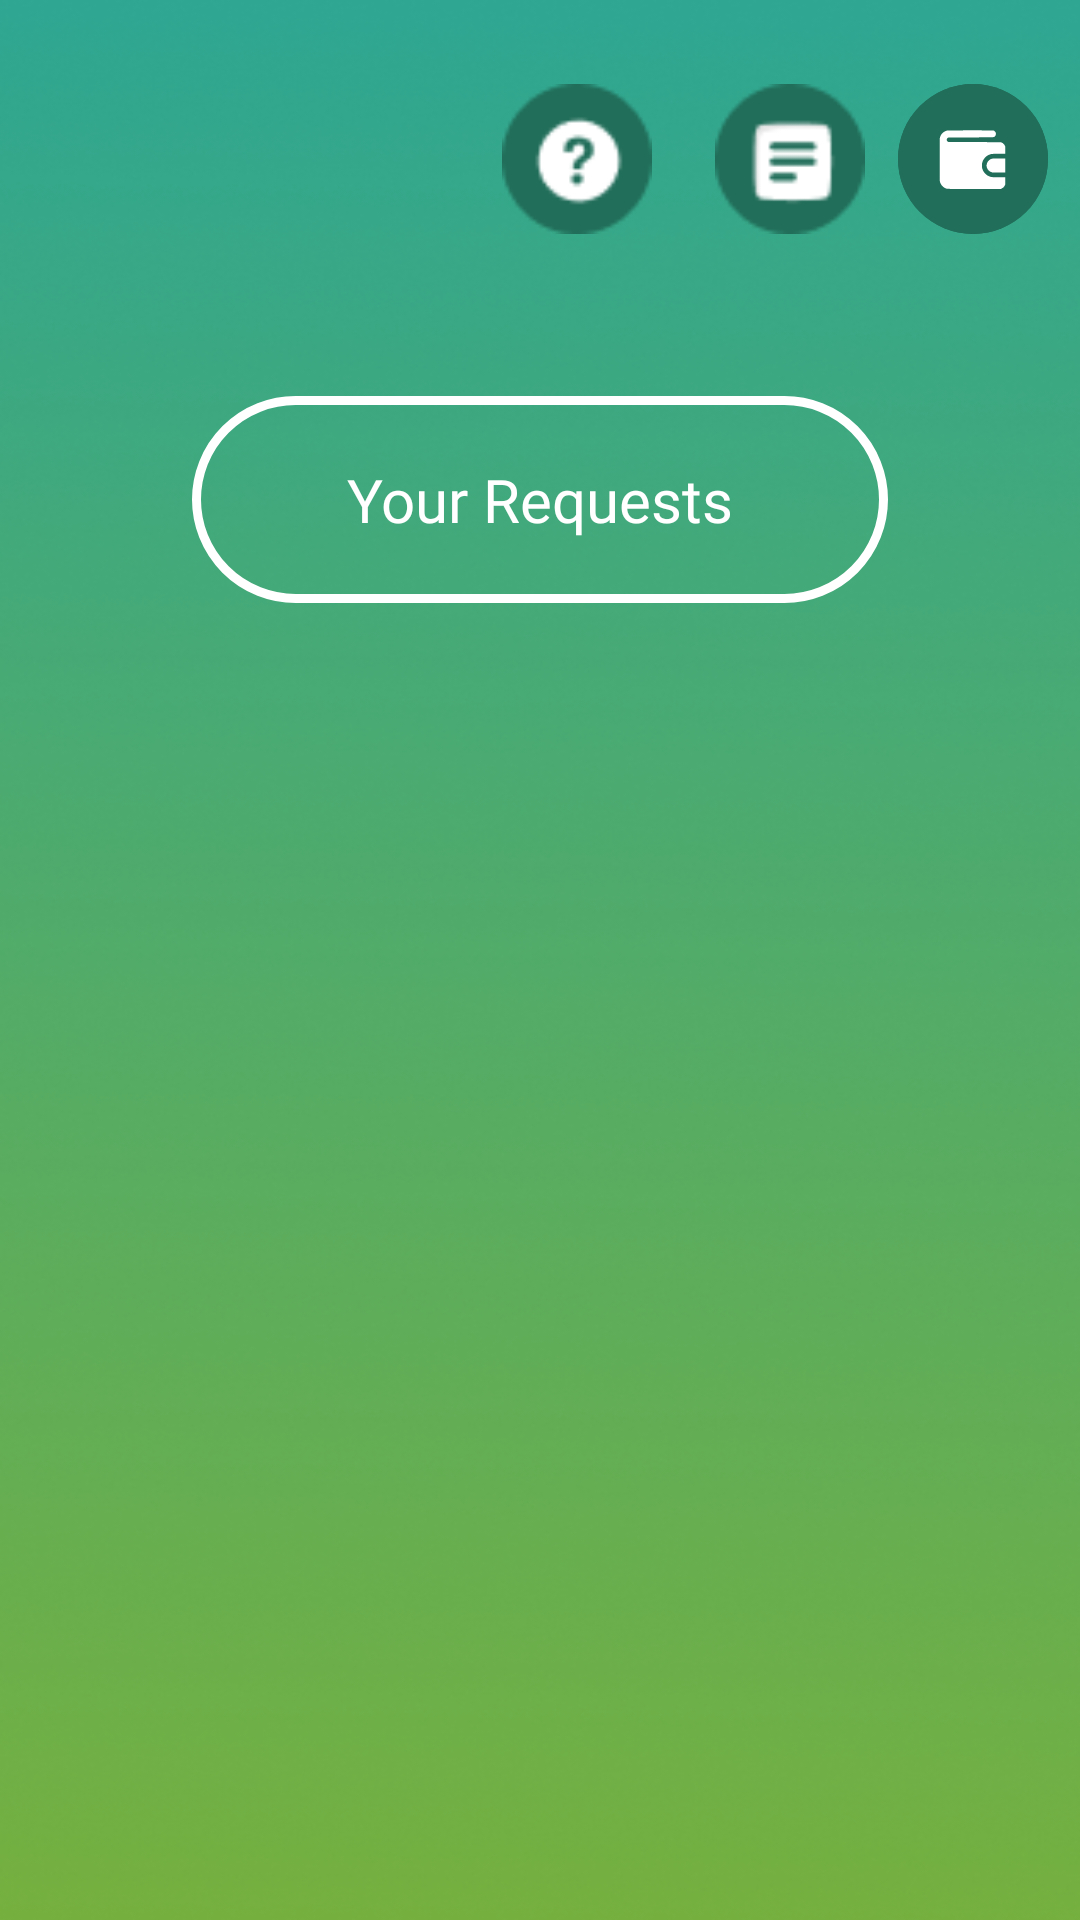

Named icons in this screenshot (1080w x 1920h) and their bounding boxes, (x1, y1, x2, y2):
helpicon: (502, 84, 652, 234)
orderhistoryicon: (715, 84, 865, 234)
wallet: (898, 84, 1048, 234)
